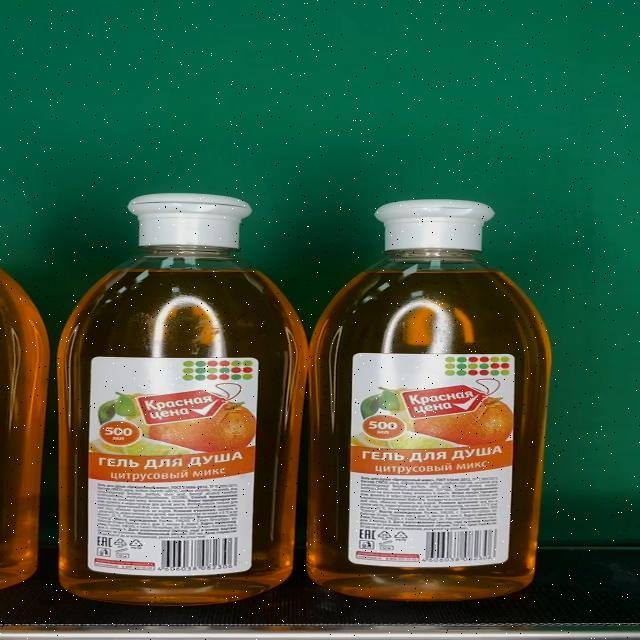Bottle: (57, 193, 306, 604), (306, 198, 551, 601)
Cap: (127, 195, 251, 248), (374, 198, 496, 251)
